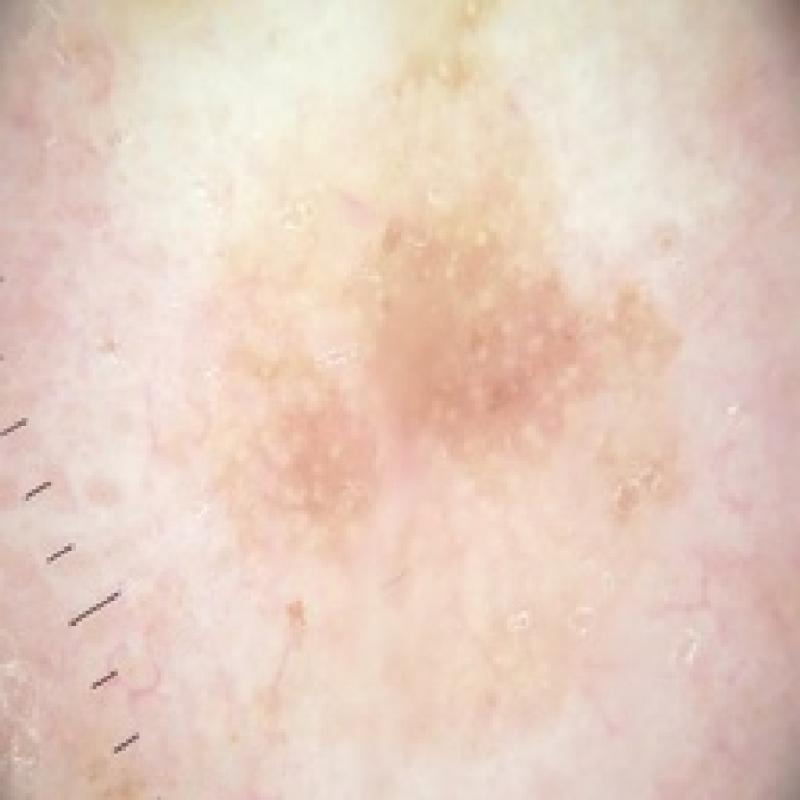malignant: (132, 26, 718, 631)
